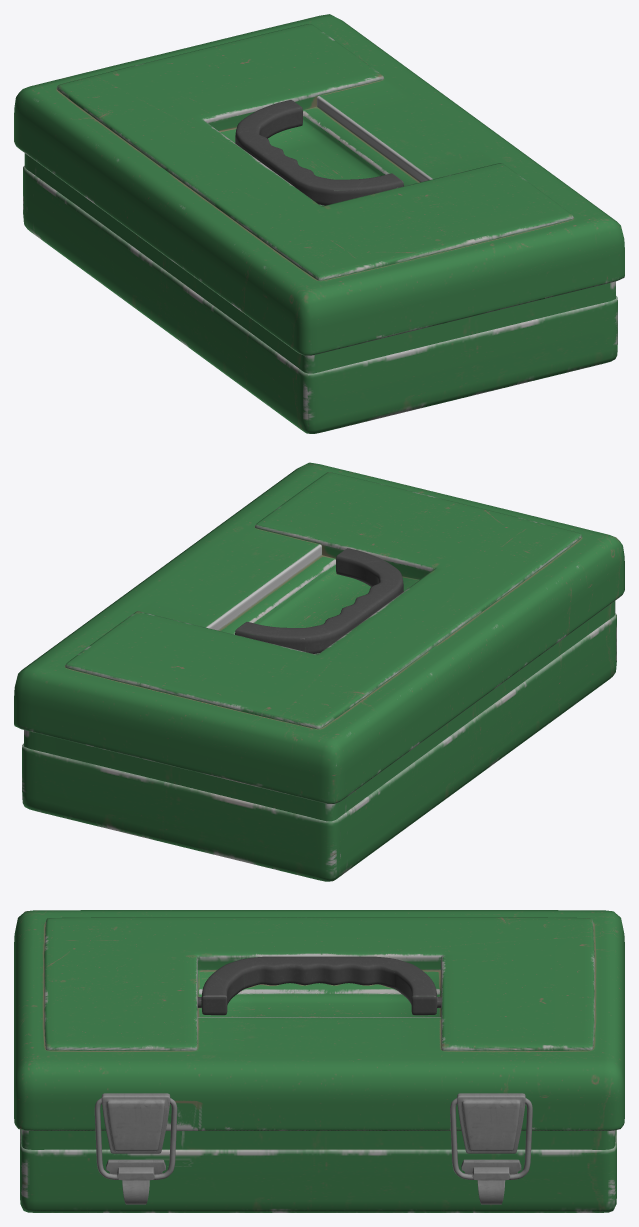
File: tool box.fbx
3 renders of one model, top to bottom at view 1: azimuth 30°, elevation 25°; view 2: azimuth 150°, elevation 25°; view 3: azimuth 270°, elevation 25°, orthographic. The views are drawn at different scales.
Visible parts, largest first — view 1: polySurface2, polySurface1, polySurface3; view 2: polySurface2, polySurface1, polySurface3; view 3: polySurface2, polySurface1, polySurface12, polySurface3, polySurface7.
Part boxes in pixels (box(x1,y1,x2,y2)): polySurface2: box(14, 14, 624, 355); polySurface1: box(23, 153, 617, 433); polySurface3: box(235, 100, 403, 205); polySurface2: box(14, 462, 624, 803); polySurface1: box(22, 601, 616, 881); polySurface3: box(235, 548, 403, 653); polySurface2: box(14, 910, 624, 1130); polySurface1: box(20, 1129, 616, 1212); polySurface12: box(94, 1093, 532, 1179); polySurface3: box(197, 956, 441, 1015); polySurface7: box(106, 1159, 521, 1204).
Size of the model in its own units: 6.29 by 2.66 by 9.52.
